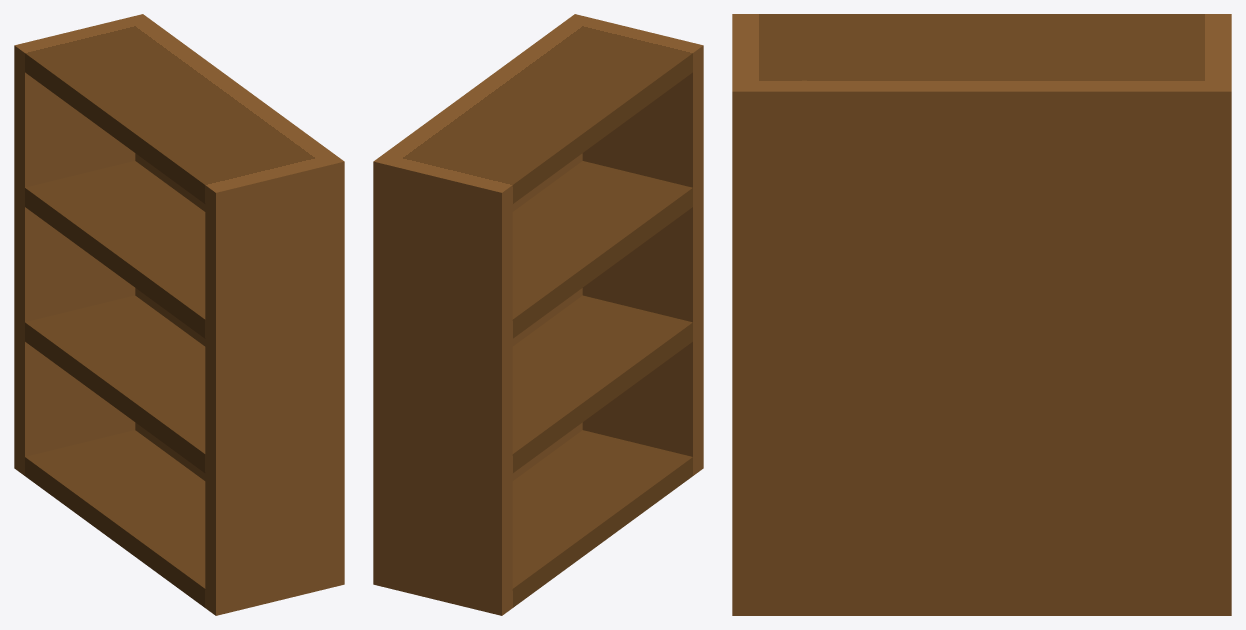
The model's file is bookcase_small.fbx.
3 renders of one model, left to right at view 1: azimuth 30°, elevation 25°; view 2: azimuth 150°, elevation 25°; view 3: azimuth 270°, elevation 25°, orthographic. The views are drawn at different scales.
Visible parts, largest first — view 1: bookcase_small; view 2: bookcase_small; view 3: bookcase_small.
Part boxes in pixels (x1,y1,x2,y2): bookcase_small: (14,14,344,615); bookcase_small: (373,14,703,615); bookcase_small: (732,14,1231,615).
Size of the model in its own units: 7 by 22 by 19.
